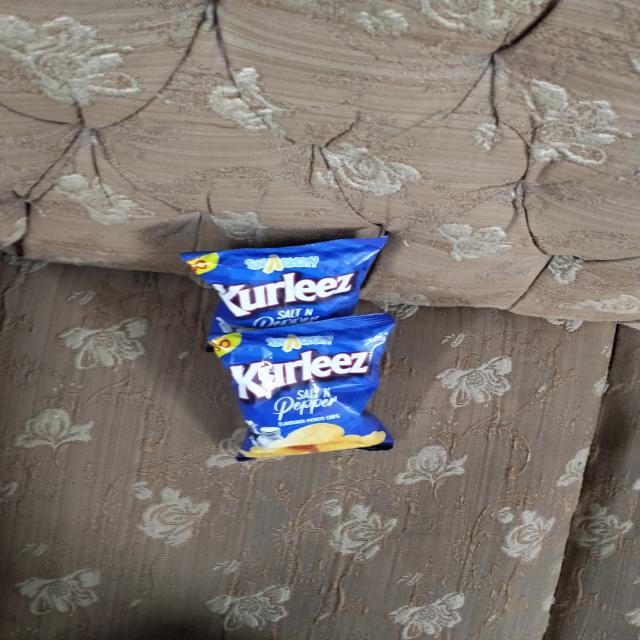Plastic: (206, 322, 394, 464), (180, 225, 400, 316)
